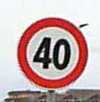limite 40: (16, 18, 86, 89)
